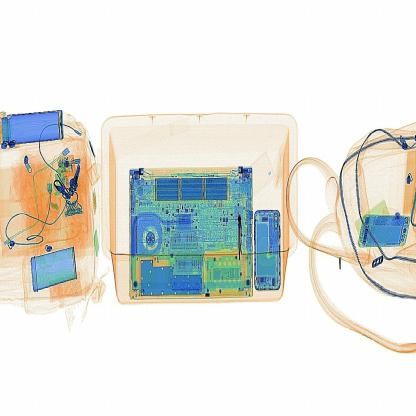knife: (232, 197, 252, 263)
